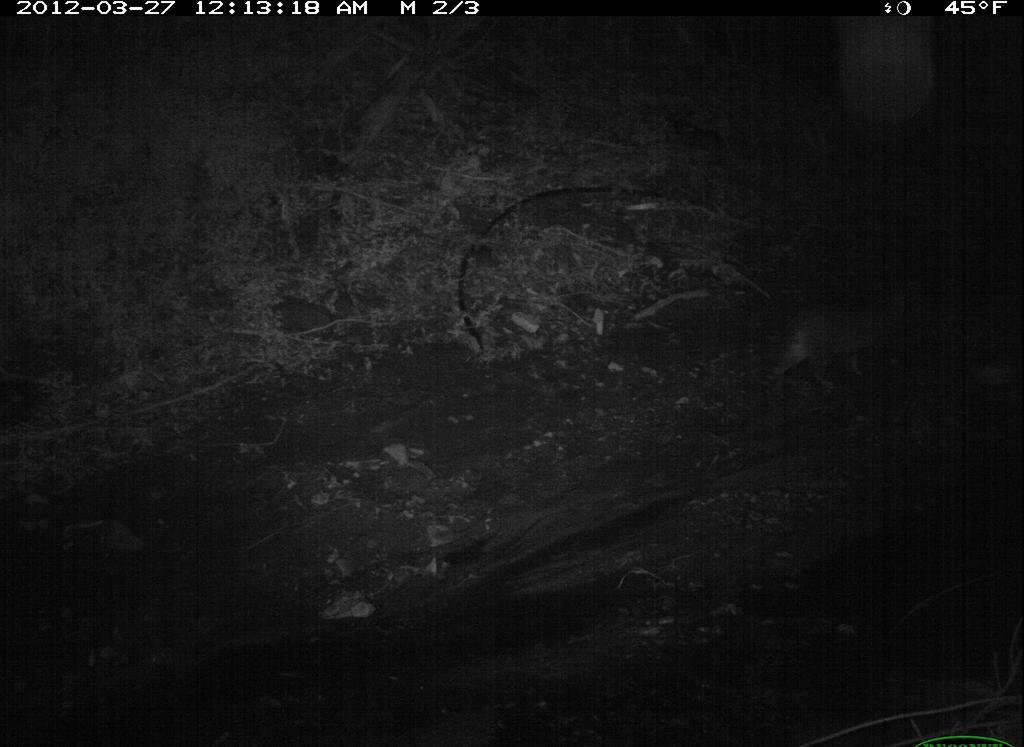cat: (729, 266, 935, 407)
